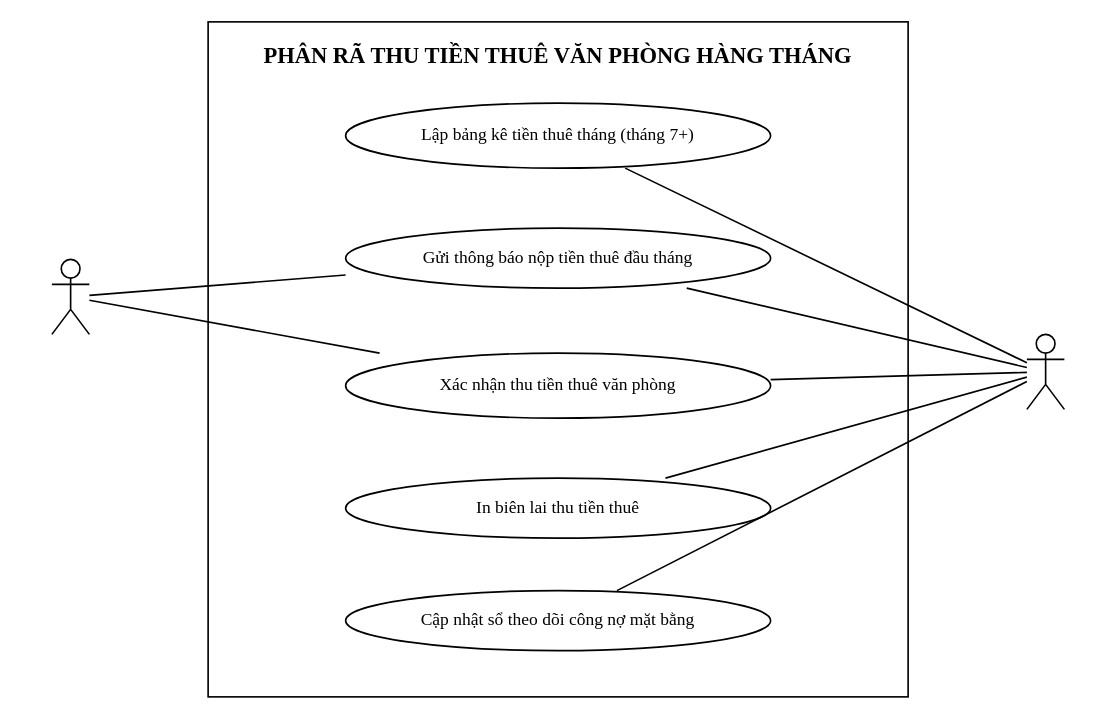
This 1101x720 diagram has some shape labels left out. Each missing label, with the centre of its shape:
"Khách thuê" goes at point (70, 296).
"Kế toán" goes at point (1045, 371).
